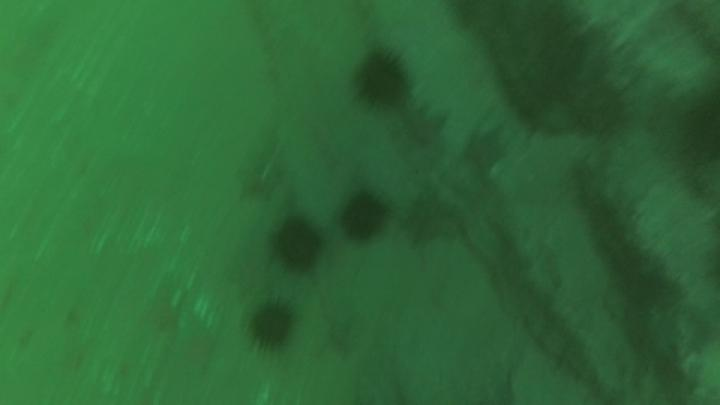echinus: (350, 47, 417, 113), (238, 292, 303, 357), (330, 184, 396, 247), (268, 211, 329, 279)
starfish: (400, 194, 464, 248), (464, 124, 513, 178), (402, 104, 455, 151), (241, 157, 281, 199)
